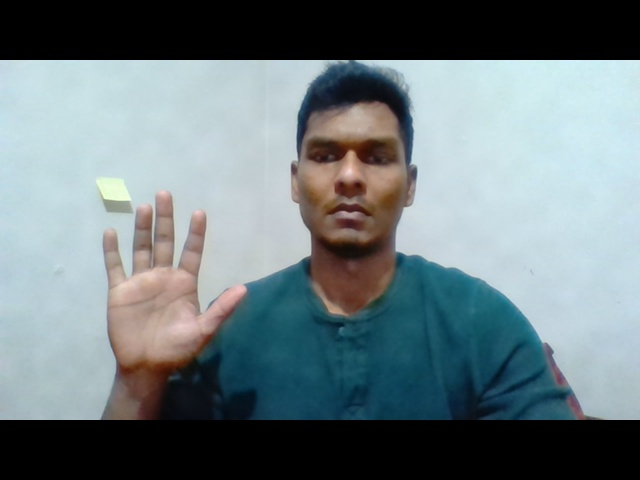Hello: (83, 189, 253, 384)
